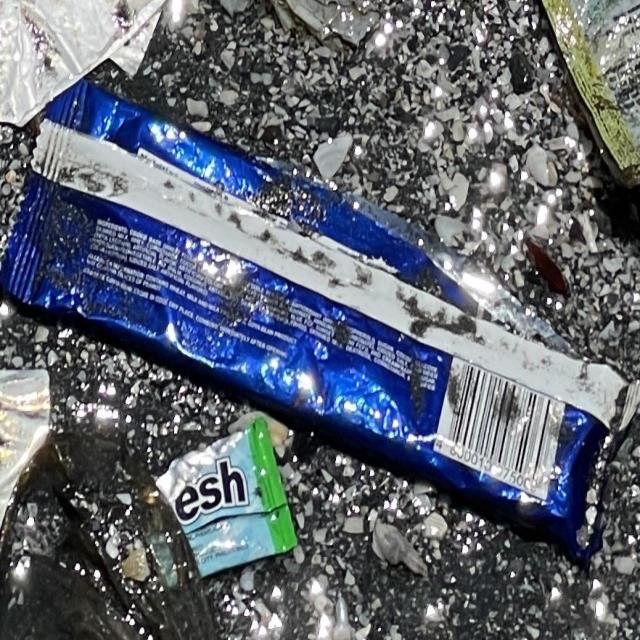plastic_waste: (0, 77, 640, 577), (148, 416, 302, 584), (535, 0, 640, 190)
